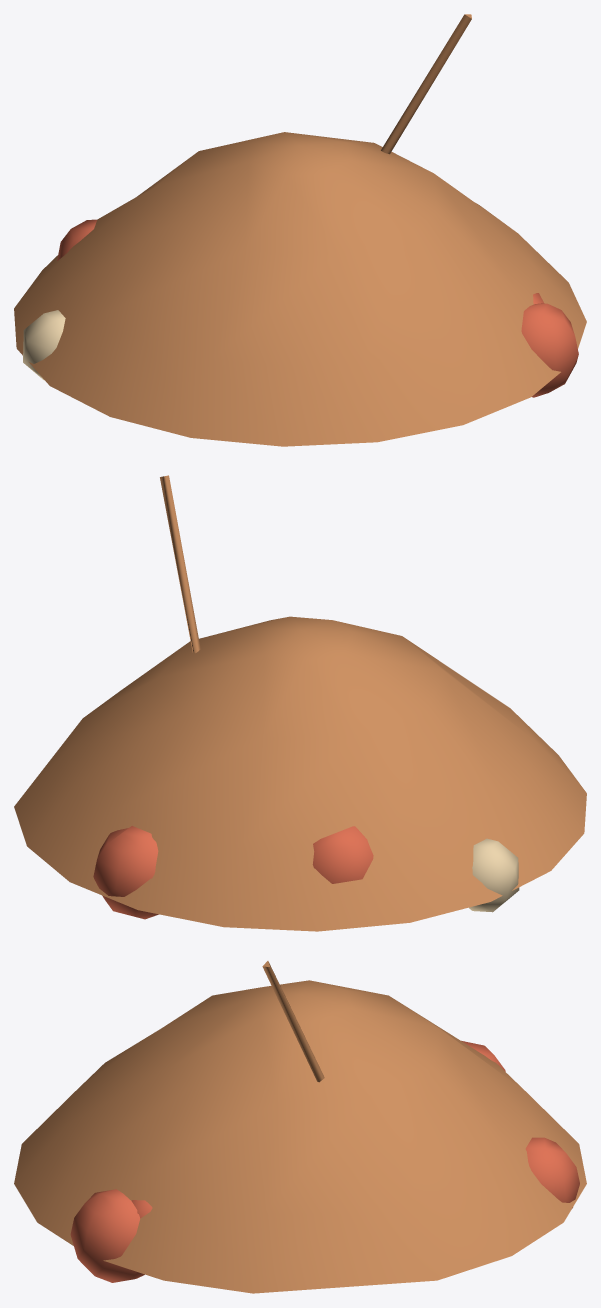
Rendered from dirt_pile.glb.
3 views of the same model, one above another, from view 1: azimuth 30°, elevation 25°; view 2: azimuth 150°, elevation 25°; view 3: azimuth 270°, elevation 25° (orthographic).
Parts seen in each view (by area): view 1: dirt_pile; view 2: dirt_pile; view 3: dirt_pile.
Boxes of the visible parts, x1,y1,x2,y2 form: dirt_pile: (14,14,586,446); dirt_pile: (14,475,586,931); dirt_pile: (14,961,586,1293).
Bounding box in the file's own units: 3.18 × 1.96 × 3.19.
1 material, 1 textured.
